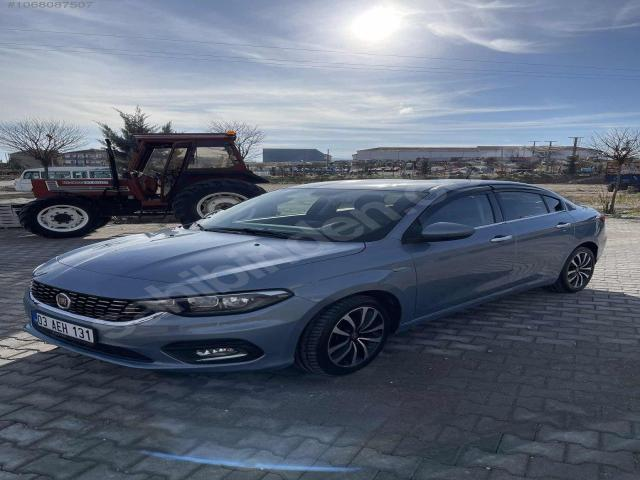plaka: (38, 315, 93, 343)
